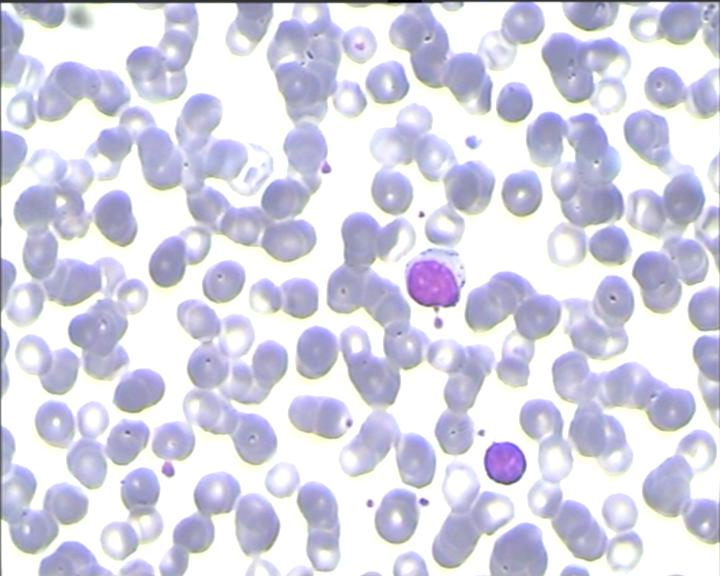lymp: (403, 246, 474, 311), (483, 438, 529, 488)
